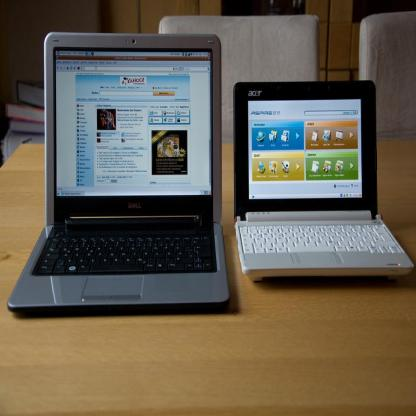board: (10, 38, 238, 326), (234, 81, 414, 281)
